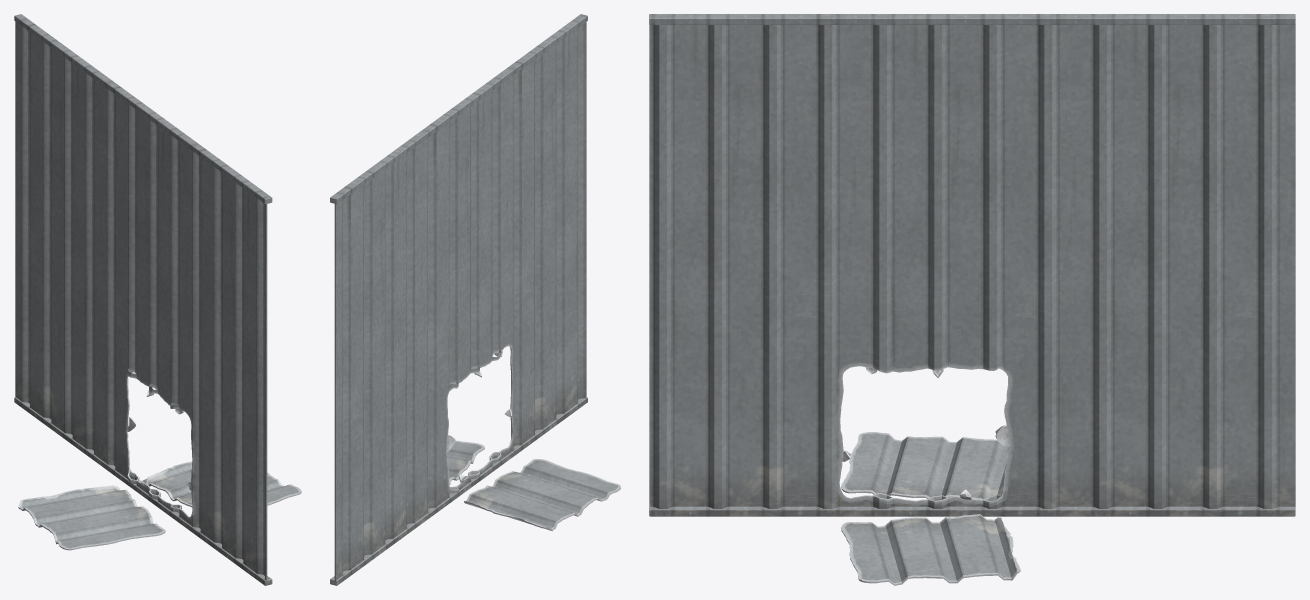
Rendered from CrawlHole.fbx.
3 renders of one model, left to right at view 1: azimuth 30°, elevation 25°; view 2: azimuth 150°, elevation 25°; view 3: azimuth 270°, elevation 25°, orthographic. The views are drawn at different scales.
Visible parts, largest first — view 1: HoleWall_M_Left, Panel_Neg, HoleWall_S_Left, Edge_Neg, Panel_Pos, Edge_Pos; view 2: HoleWall_M_Left, Panel_Neg, HoleWall_S_Left, Edge_Neg, Edge_Pos, Panel_Pos; view 3: HoleWall_M_Left, HoleWall_S_Left, Panel_Pos, Panel_Neg, Edge_Pos, Edge_Neg.
Part boxes in pixels (x1,y1,x2,y2): HoleWall_M_Left: (14, 14, 272, 585); Panel_Neg: (21, 488, 162, 548); HoleWall_S_Left: (99, 77, 270, 584); Edge_Neg: (18, 368, 193, 550); Panel_Pos: (147, 463, 298, 504); Edge_Pos: (125, 367, 301, 520); HoleWall_M_Left: (330, 14, 587, 585); Panel_Neg: (464, 460, 618, 530); HoleWall_S_Left: (419, 14, 587, 519); Edge_Neg: (444, 342, 620, 530); Edge_Pos: (445, 342, 513, 489); Panel_Pos: (447, 442, 481, 480); HoleWall_M_Left: (649, 14, 1295, 516); HoleWall_S_Left: (650, 14, 1075, 516); Panel_Pos: (845, 515, 1017, 582); Panel_Neg: (845, 433, 1008, 499); Edge_Pos: (833, 361, 1020, 585); Edge_Neg: (838, 360, 1015, 506).
Size of the model in its own units: 6.45 by 10 by 11.75.
2 materials, 2 textured.
